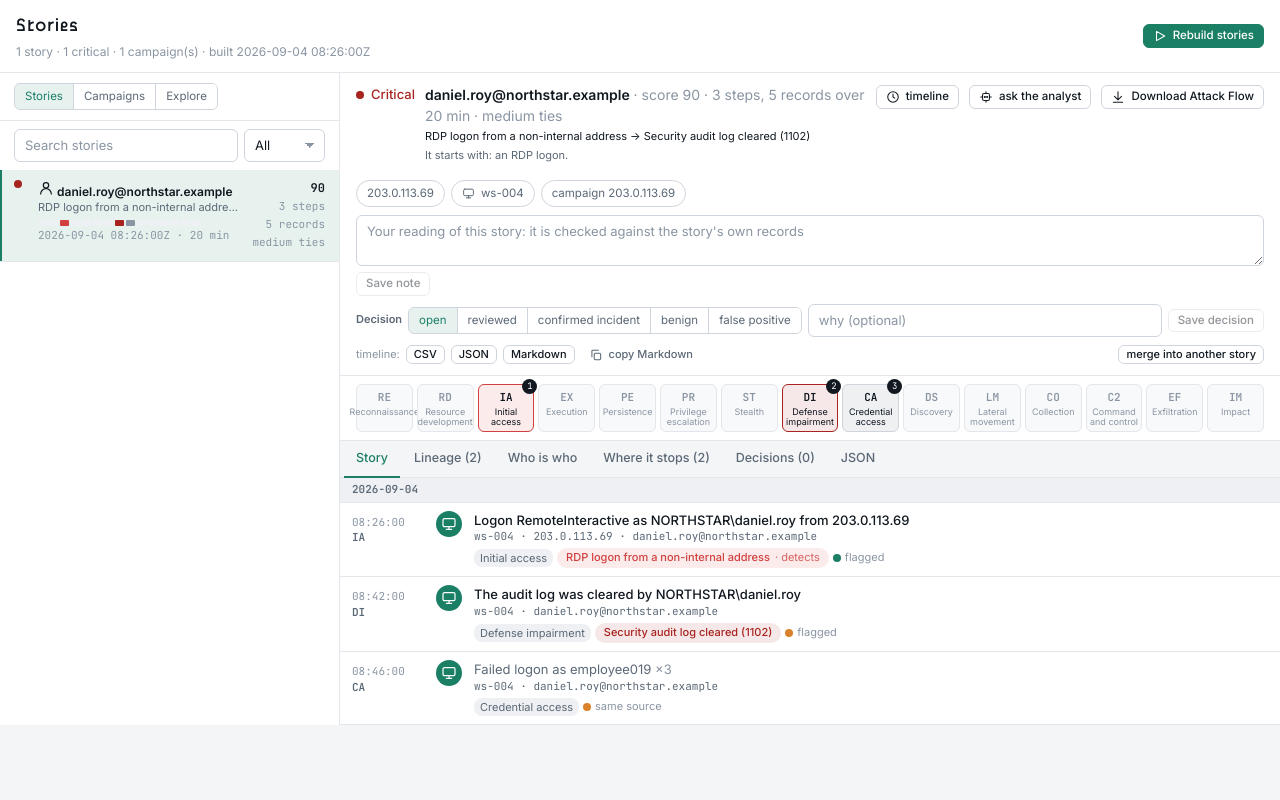
the Stories page › reads a story along its phases, and a step says why it is there and what its rule is worth
Expected: the button with aria-label "Story daniel.roy@northstar.example" is shown, [0,170,339,262]
Expected: the text "1 story · 1 critical · 1 campaign(s)" is shown, [16,44,370,59]
Note: picking a phase filters the timeline
Click the list item "DI Defense impairment 2".
click(810, 408)  # box [782,384,838,432]
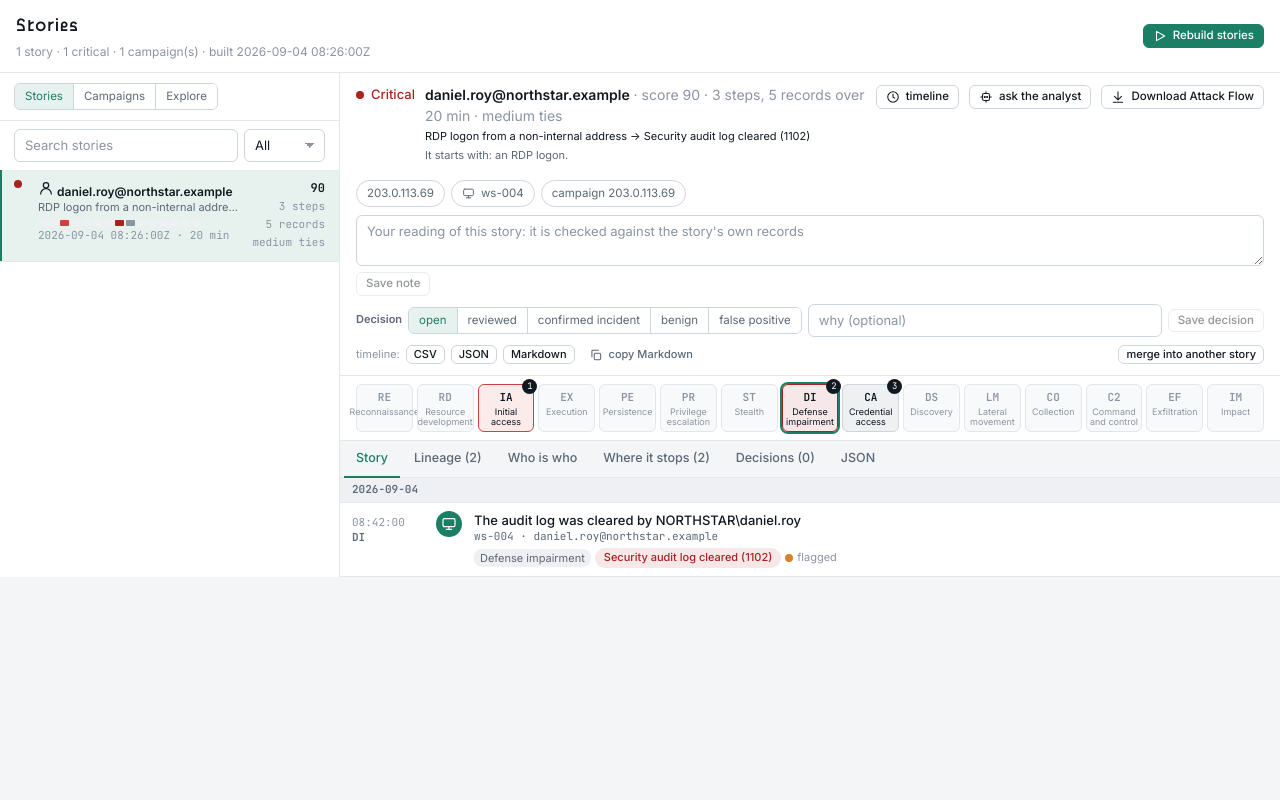
Expected: the text "Logon RemoteInteractive as NORTHSTAR\\daniel.roy from 203.0.113.69" is gone
Click the list item "DI Defense impairment 2".
click(810, 408)  # box [782,384,838,432]
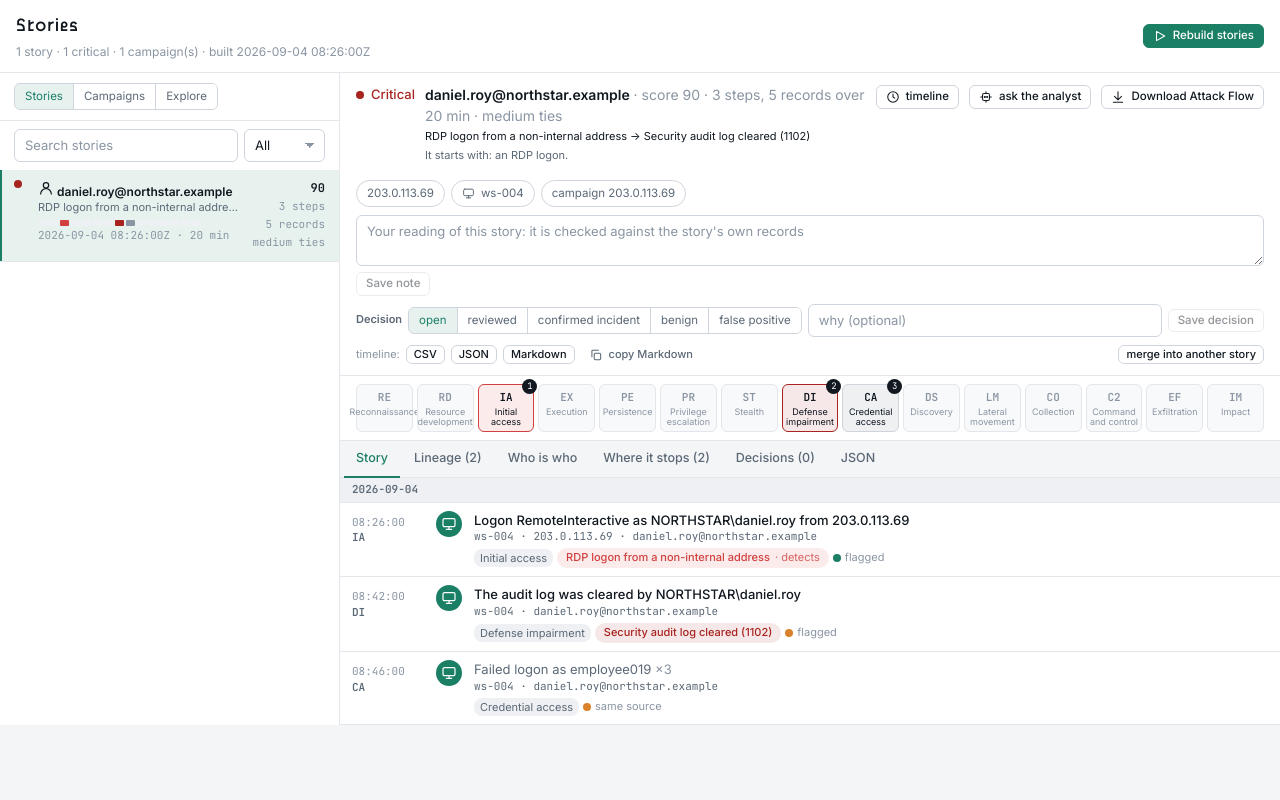
Note: a step: its tie and the measure of its rule
Click the text "Logon RemoteInteractive as NORTHSTAR\\daniel.roy from 203.0.113.69".
click(692, 520)  # box [474,512,909,528]
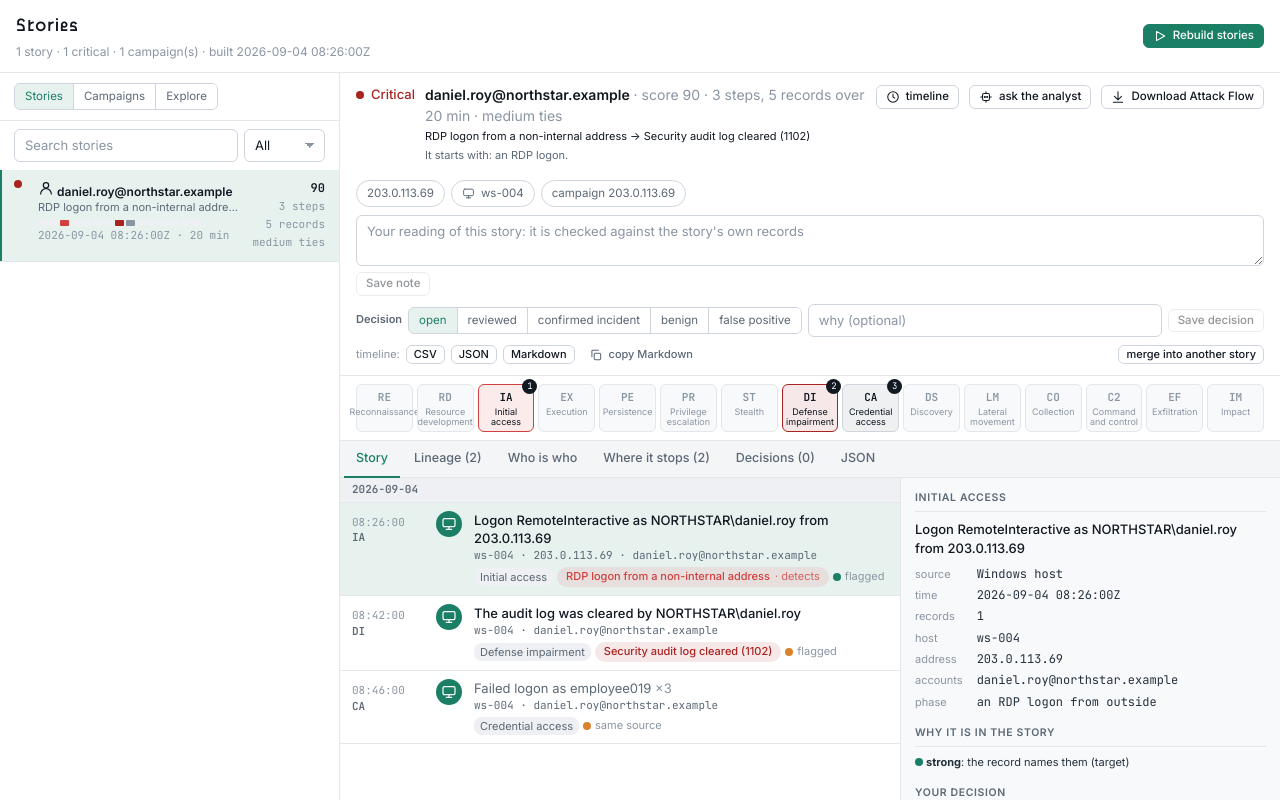
Expected: the text "×3" is shown, [655,680,672,696]
Expected: the heading "Why it is in the story" is shown, [915,725,1266,748]
